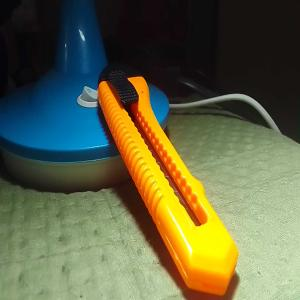estilete: (97, 68, 240, 296)
